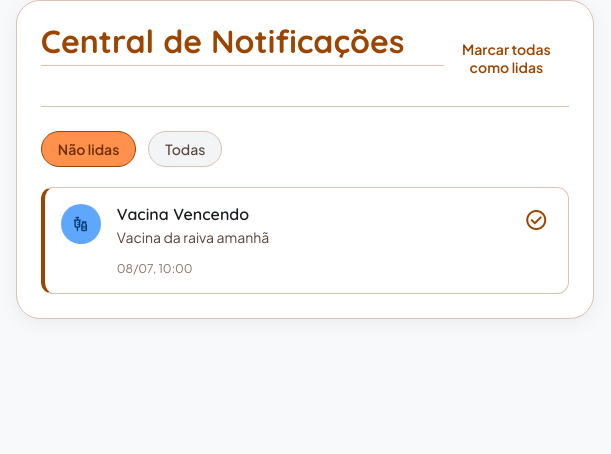
Test: NotificationsPageContent Component › should show filtered list of notifications
Check: the heading "Vacina Vencendo" is shown, box [117,204,249,224]
Check: the text "Aviso do Sistema" is not shown
Note: Toggle 'Todas' filter
Click the button "Todas": click(185, 149) [148,131,222,167]
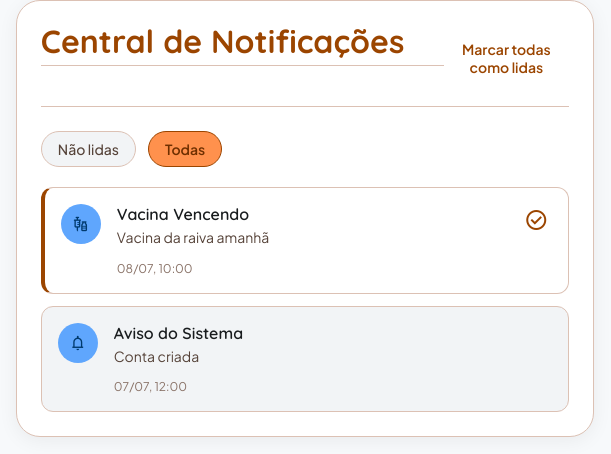
Check: the heading "Vacina Vencendo" is shown, box [117,204,249,224]
Check: the heading "Aviso do Sistema" is shown, box [114,323,243,343]
